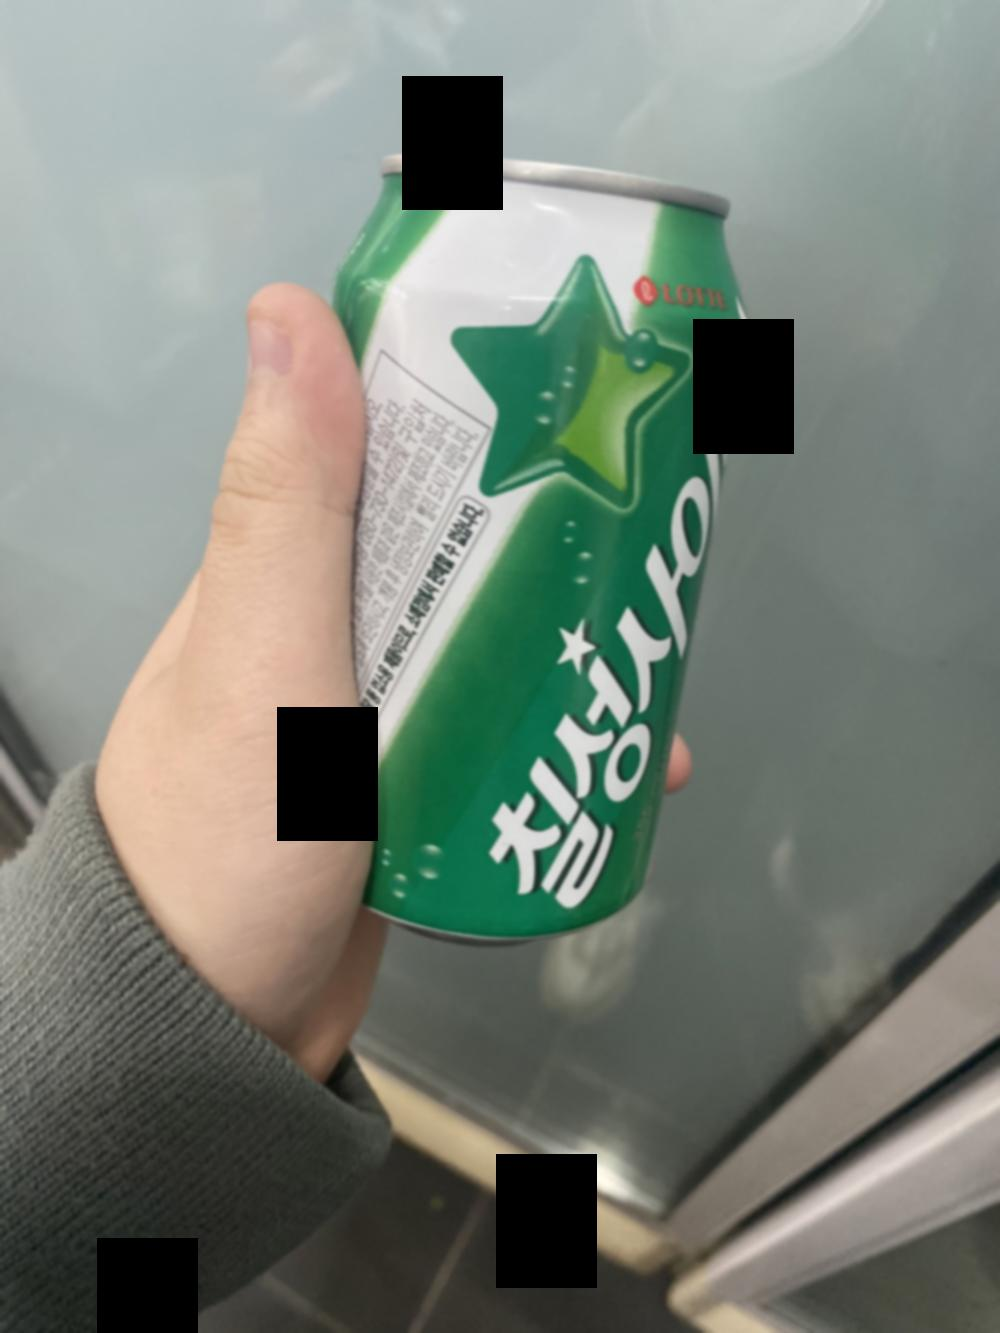chilsungcider: (348, 151, 761, 950)
